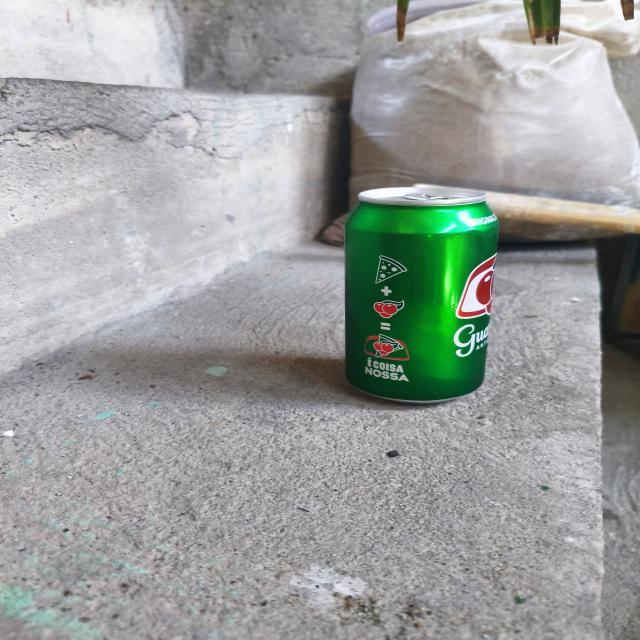Guarana: (338, 171, 510, 410)
